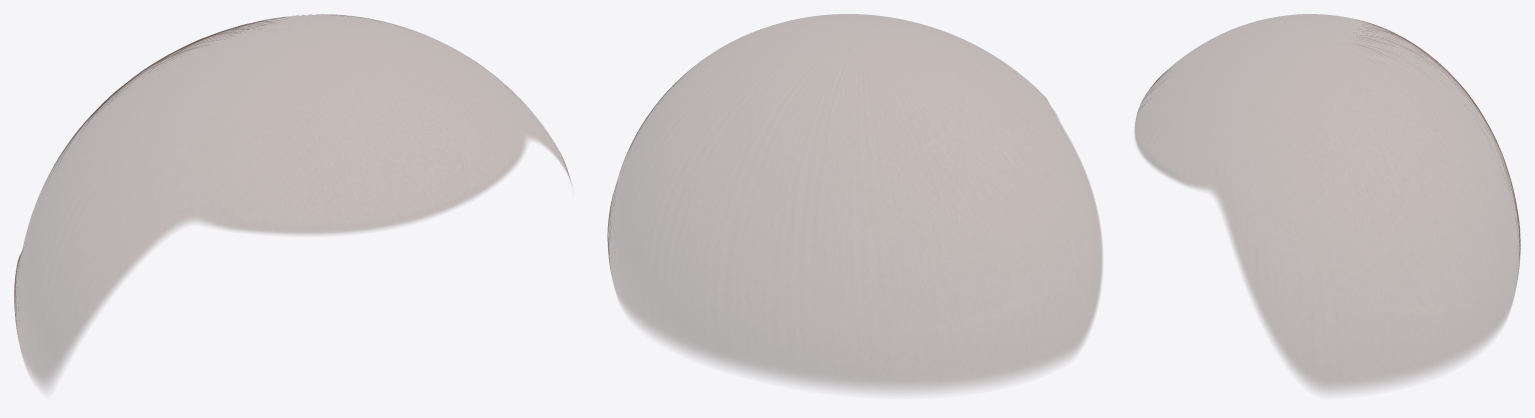
The model's file is Masculine-buzz-cap252-hair.glb.
The picture shows the model from 3 angles, left to right: view 1: azimuth 30°, elevation 25°; view 2: azimuth 150°, elevation 25°; view 3: azimuth 270°, elevation 25°; orthographic projection. The views are drawn at different scales.
Visible parts, largest first — view 1: 226 hair / Hair252 / buzz edge.001; view 2: 226 hair / Hair252 / buzz edge.001; view 3: 226 hair / Hair252 / buzz edge.001.
Part boxes in pixels (x1=…): 226 hair / Hair252 / buzz edge.001: x1=14, y1=14, x2=571, y2=388; 226 hair / Hair252 / buzz edge.001: x1=607, y1=14, x2=1102, y2=391; 226 hair / Hair252 / buzz edge.001: x1=1134, y1=14, x2=1520, y2=391.
Size of the model in its own units: 0.9886 by 0.572 by 0.761.
Materials: 1 (1 with a texture image).
